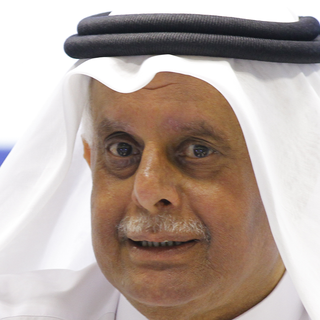eye: (101, 133, 145, 168), (172, 136, 223, 165)
